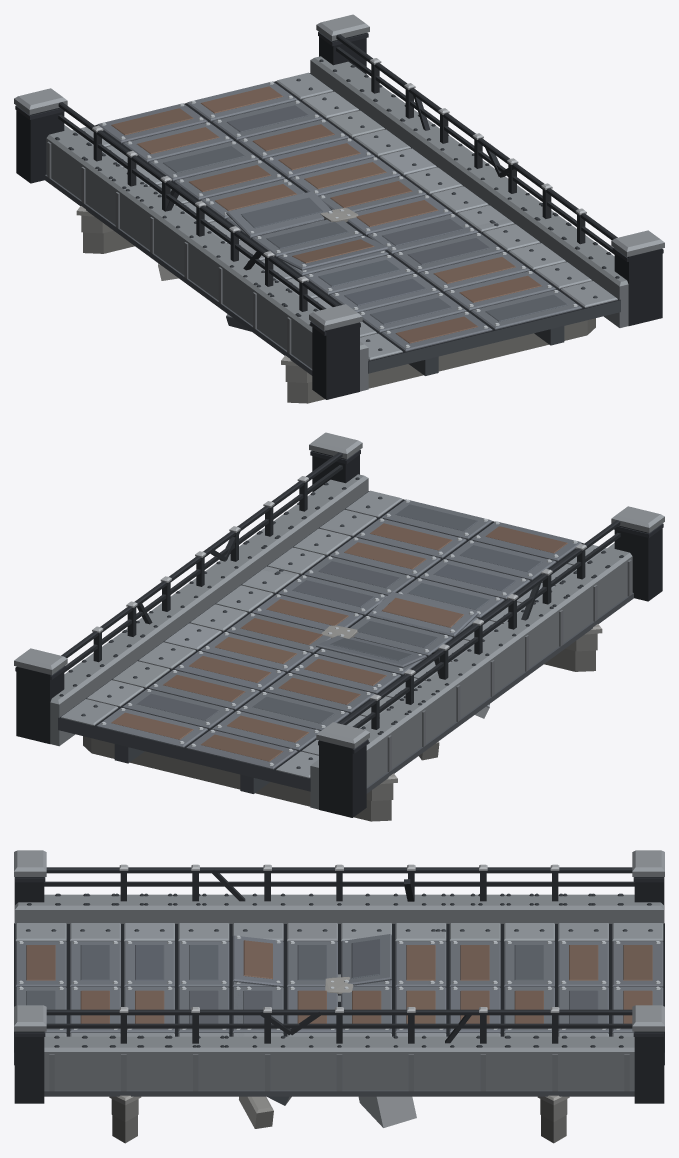
File: BRG_city.fbx
3 renders of one model, top to bottom at view 1: azimuth 30°, elevation 25°; view 2: azimuth 150°, elevation 25°; view 3: azimuth 270°, elevation 25°, orthographic. The views are drawn at different scales.
Visible parts, largest first — view 1: BRGZ_city_damaged_plate, BRGZ_city_damaged_steel, BRGZ_city_destroyed_steel, BRGZ_city_intact_plate, BRGZ_city_intact_steel, BRGZ_city_damaged_stone, BRGZ_city_destroyed_plate; view 2: BRGZ_city_damaged_plate, BRGZ_city_damaged_steel, BRGZ_city_destroyed_steel, BRGZ_city_intact_plate, BRGZ_city_intact_steel, BRGZ_city_damaged_stone; view 3: BRGZ_city_damaged_steel, BRGZ_city_damaged_plate, BRGZ_city_destroyed_steel, BRGZ_city_intact_steel, BRGZ_city_intact_plate, BRGZ_city_damaged_stone, BRGZ_city_destroyed_stone, BRGZ_city_destroyed_plate.
Boxes of the visible parts, x1,y1,x2,y2 form: BRGZ_city_damaged_plate: [72, 72, 617, 360]; BRGZ_city_damaged_steel: [14, 14, 664, 399]; BRGZ_city_destroyed_steel: [45, 36, 625, 375]; BRGZ_city_intact_plate: [187, 154, 511, 275]; BRGZ_city_intact_steel: [160, 36, 623, 325]; BRGZ_city_damaged_stone: [76, 206, 595, 403]; BRGZ_city_destroyed_plate: [176, 179, 514, 317]; BRGZ_city_damaged_plate: [61, 490, 606, 778]; BRGZ_city_damaged_steel: [14, 432, 664, 817]; BRGZ_city_destroyed_steel: [54, 453, 632, 793]; BRGZ_city_intact_plate: [184, 567, 478, 691]; BRGZ_city_intact_steel: [53, 454, 454, 741]; BRGZ_city_damaged_stone: [83, 624, 602, 821]; BRGZ_city_damaged_steel: [14, 850, 664, 1103]; BRGZ_city_damaged_plate: [15, 923, 663, 1036]; BRGZ_city_destroyed_steel: [14, 867, 664, 1127]; BRGZ_city_intact_steel: [44, 864, 634, 1090]; BRGZ_city_intact_plate: [232, 929, 446, 1036]; BRGZ_city_damaged_stone: [109, 1095, 569, 1143]; BRGZ_city_destroyed_stone: [239, 1096, 273, 1128]; BRGZ_city_destroyed_plate: [232, 923, 445, 1036].
Size of the model in its own units: 7.6 by 2.61 by 12.
